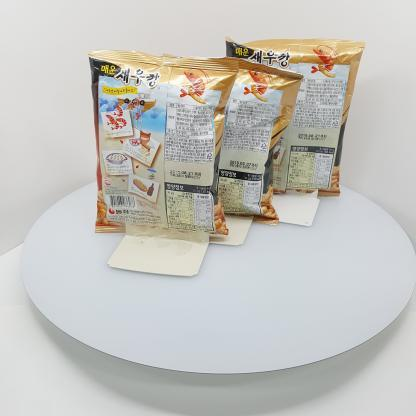Plastic Packaging: (82, 32, 232, 252), (252, 30, 370, 192)
